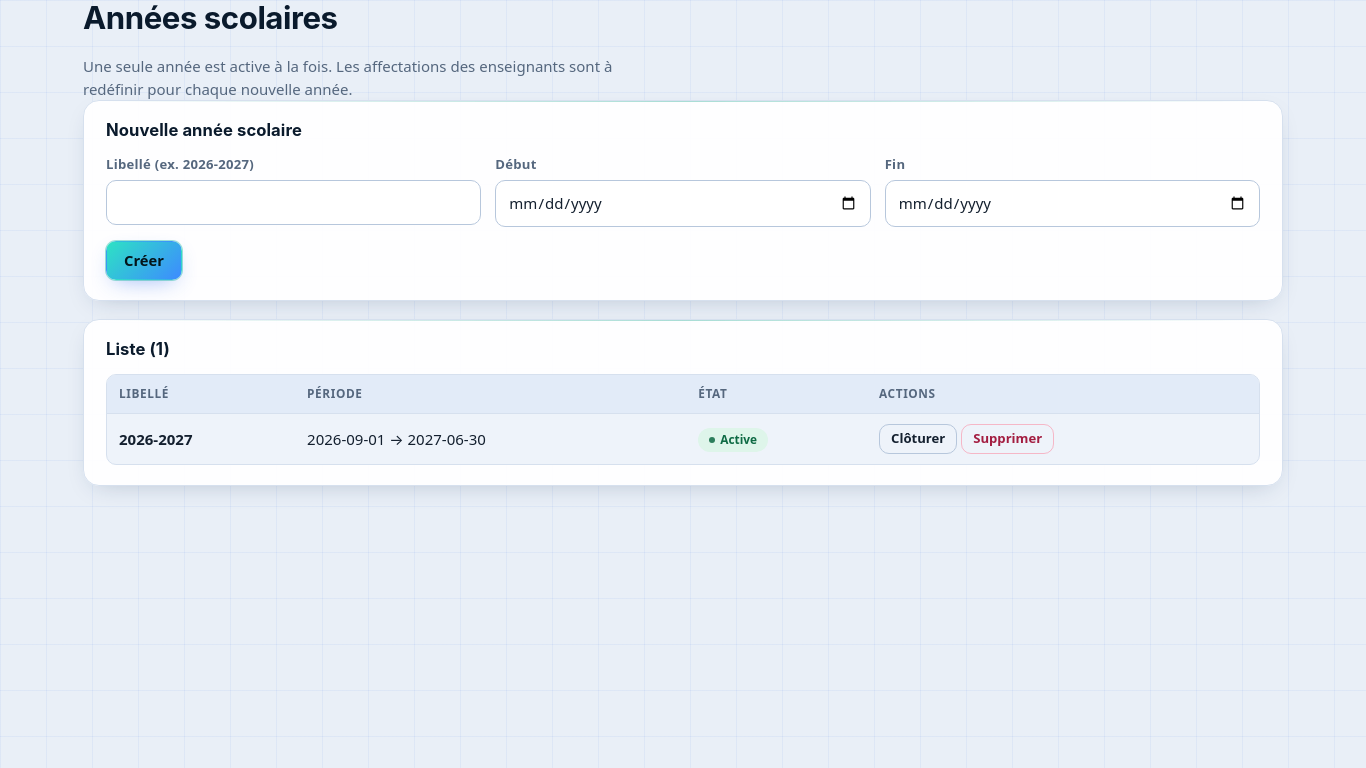
Test case: Clôture d’une année › un mauvais mot de passe affiche l’erreur et garde la fenêtre ouverte
This screenshot has width=1366, height=768.
Click the button "Clôturer" at (918, 439), box [879,424,957,454]
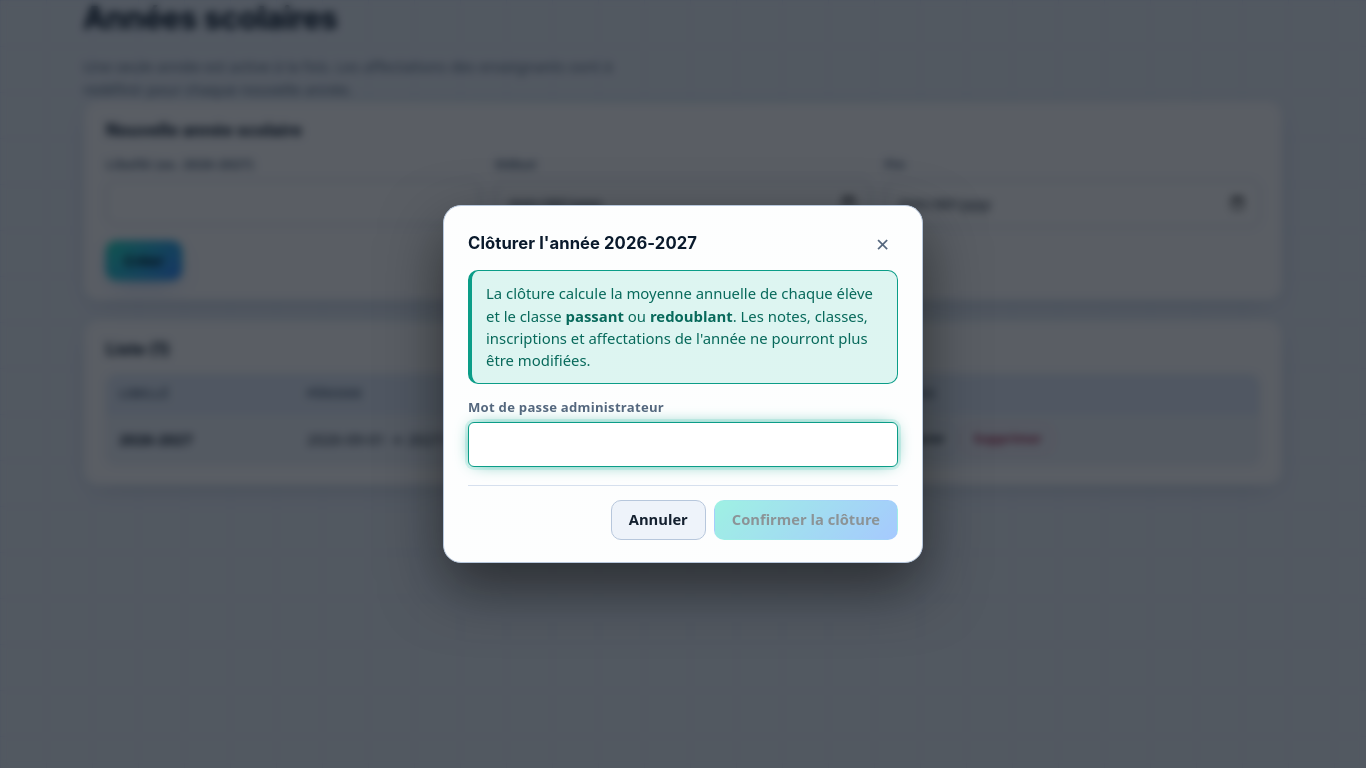
Type "faux" into the password field labelled "Mot de passe administrateur" at (683, 445), box [468,422,898,467]
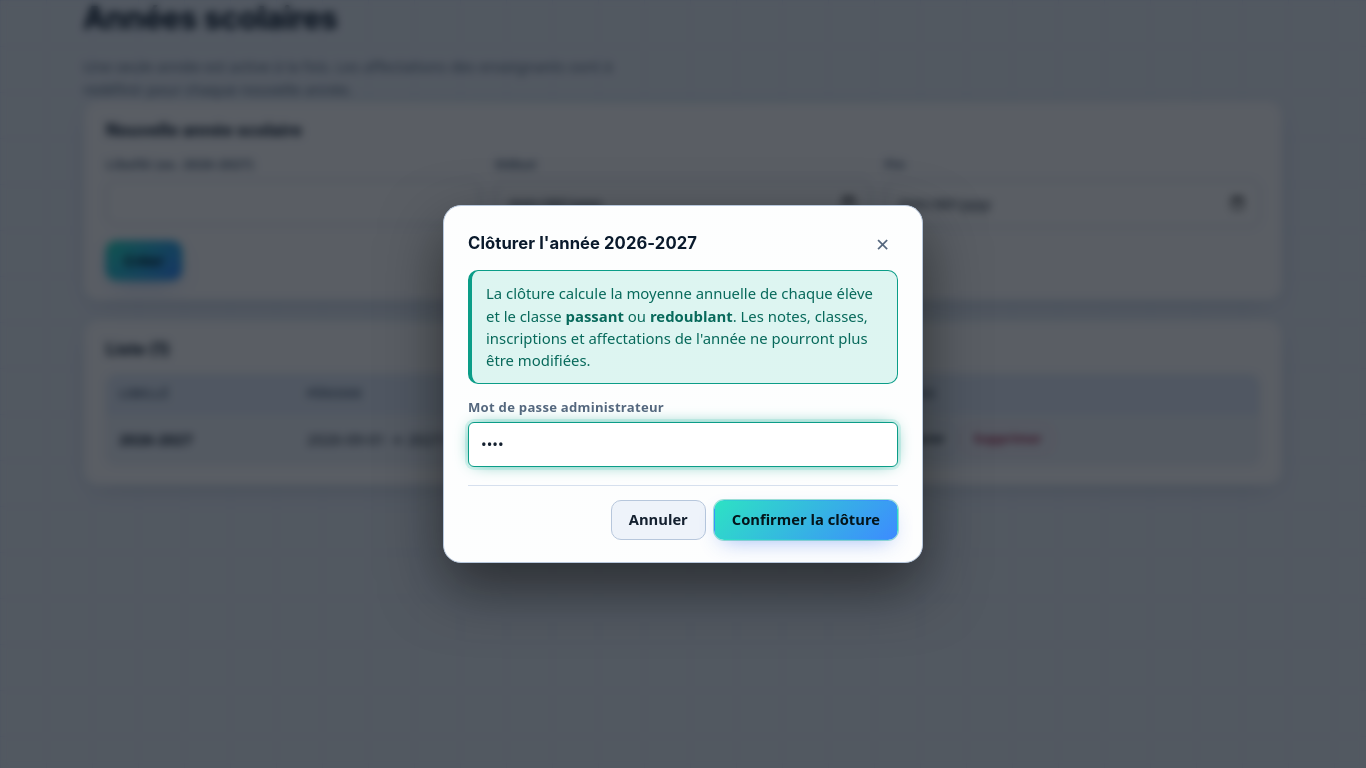
Click the button "Confirmer la clôture" at (806, 520), box [714,500,898,540]
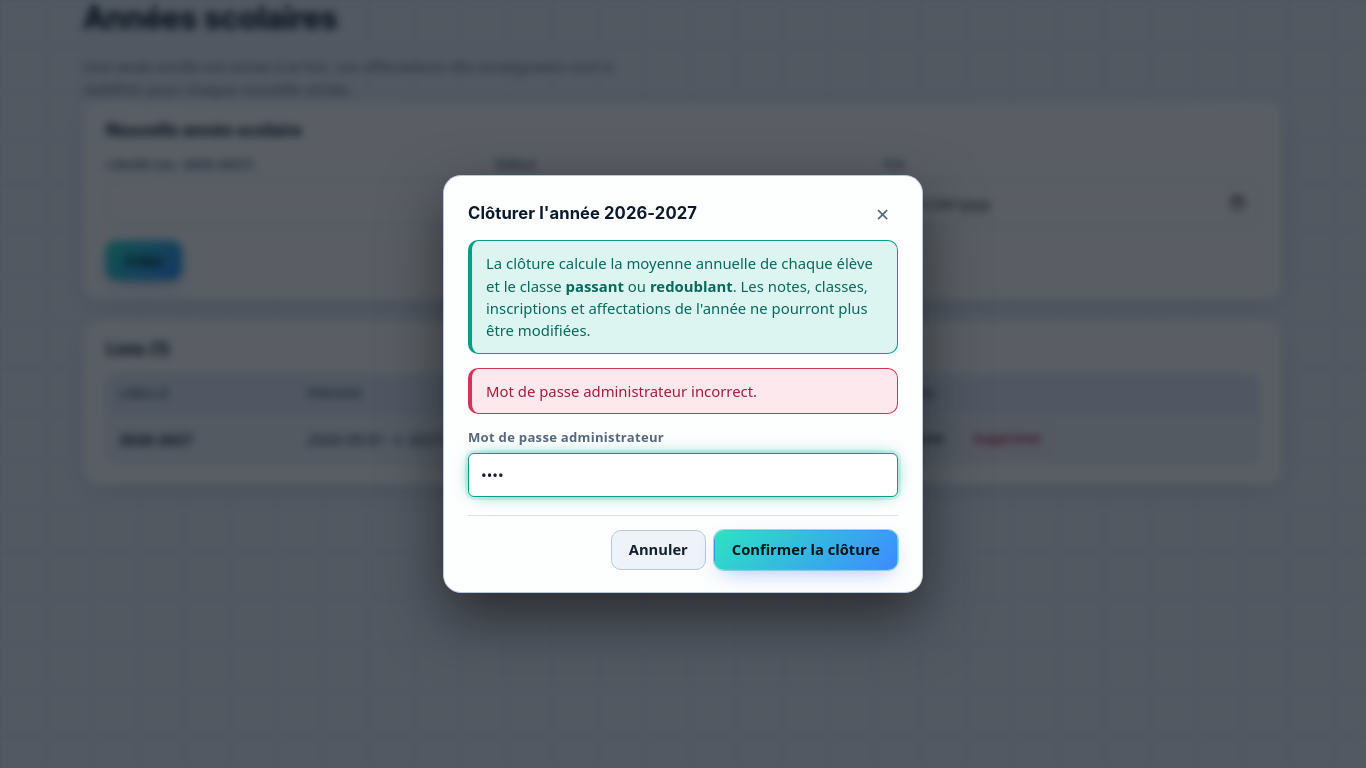
Now the text "Mot de passe administrateur incorrect." is shown, box [468,368,898,414]
